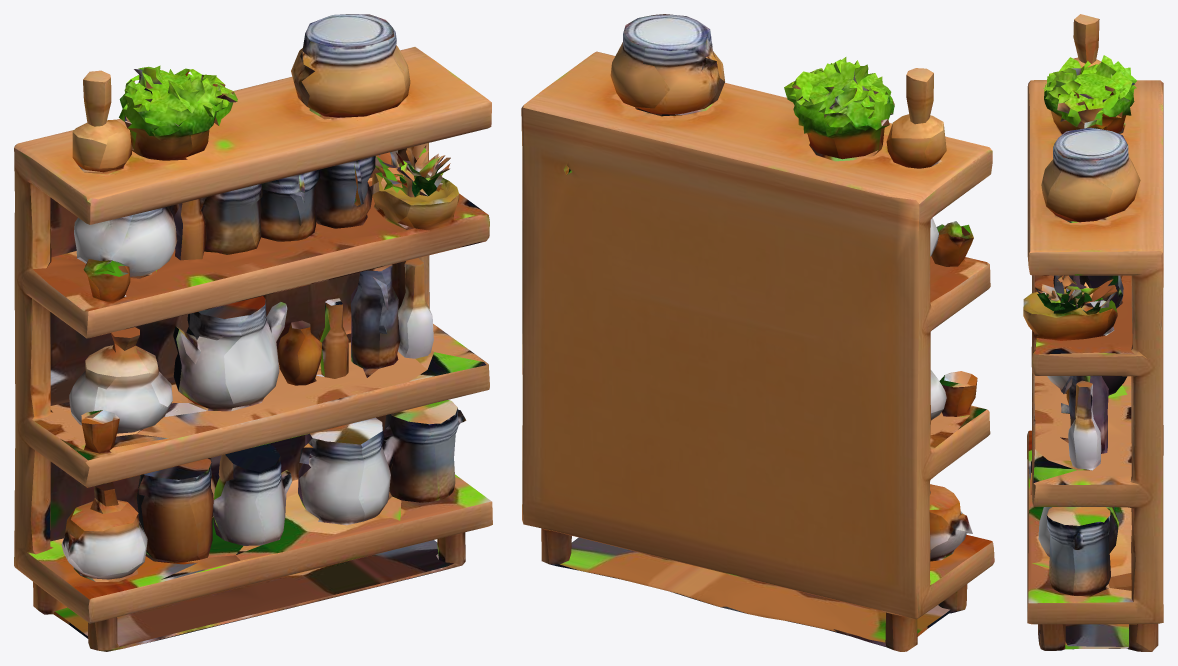
File: wall_shelf_jars.glb
3 renders of one model, left to right at view 1: azimuth 30°, elevation 25°; view 2: azimuth 150°, elevation 25°; view 3: azimuth 270°, elevation 25°, orthographic. The views are drawn at different scales.
Visible parts, largest first — view 1: wall_shelf_jars; view 2: wall_shelf_jars; view 3: wall_shelf_jars.
Part boxes in pixels (x1,y1,x2,y2): wall_shelf_jars: [14, 14, 492, 651]; wall_shelf_jars: [521, 14, 994, 651]; wall_shelf_jars: [1023, 14, 1163, 651].
Size of the model in its own units: 0.7664 by 1 by 0.2624.
1 material, 1 textured.
